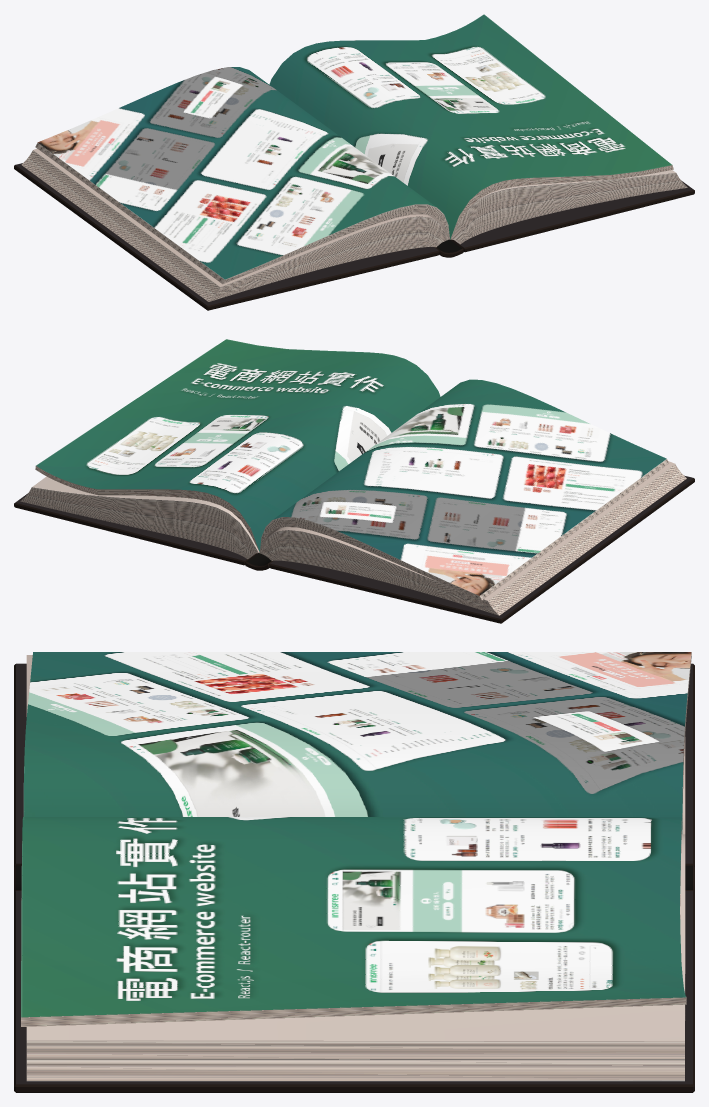
File: book1.glb
3 renders of one model, top to bottom at view 1: azimuth 30°, elevation 25°; view 2: azimuth 150°, elevation 25°; view 3: azimuth 270°, elevation 25°, orthographic. The views are drawn at different scales.
Parts seen in each view (by area): view 1: Book_Texture-base_0.002, Book_Texture-base_0.001, Book_Texture-base_0; view 2: Book_Texture-base_0.002, Book_Texture-base_0.001, Book_Texture-base_0; view 3: Book_Texture-base_0.001, Book_Texture-base_0.002, Book_Texture-base_0.
Boxes of the visible parts, x1=… form: Book_Texture-base_0.002: x1=38, y1=67, x2=436, y2=279; Book_Texture-base_0.001: x1=269, y1=14, x2=671, y2=239; Book_Texture-base_0: x1=14, y1=40, x2=694, y2=310; Book_Texture-base_0.002: x1=273, y1=379, x2=666, y2=595; Book_Texture-base_0.001: x1=36, y1=339, x2=440, y2=551; Book_Texture-base_0: x1=14, y1=459, x2=694, y2=623; Book_Texture-base_0.001: x1=21, y1=817, x2=686, y2=1017; Book_Texture-base_0.002: x1=23, y1=652, x2=691, y2=833; Book_Texture-base_0: x1=14, y1=652, x2=694, y2=1092.
Size of the model in its own units: 18.34 by 2.24 by 12.61.
3 materials, 3 textured.
